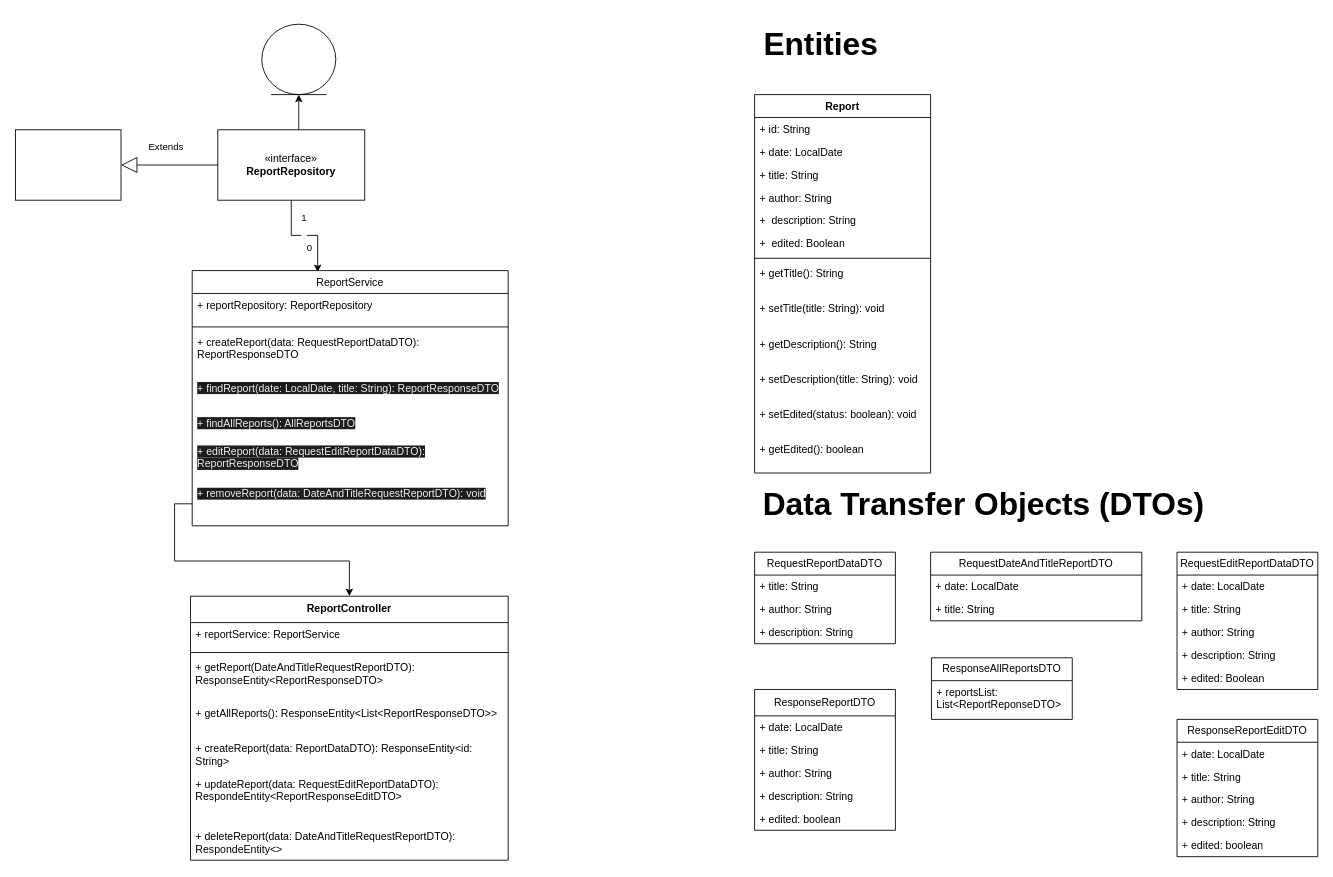
This 1333x877 diagram has some shape labels left out. The centre of each missing label's shape, as x and y in pixels:
"Data Base" goes at point 298,59.
"«interface» JPARepository" goes at point 68,164.
